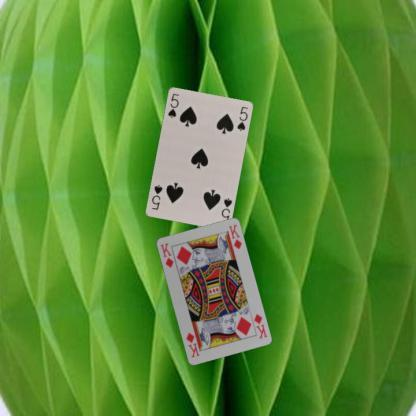5s: (165, 90, 180, 119), (218, 195, 233, 224)
Kd: (250, 311, 268, 340), (158, 240, 174, 269)
